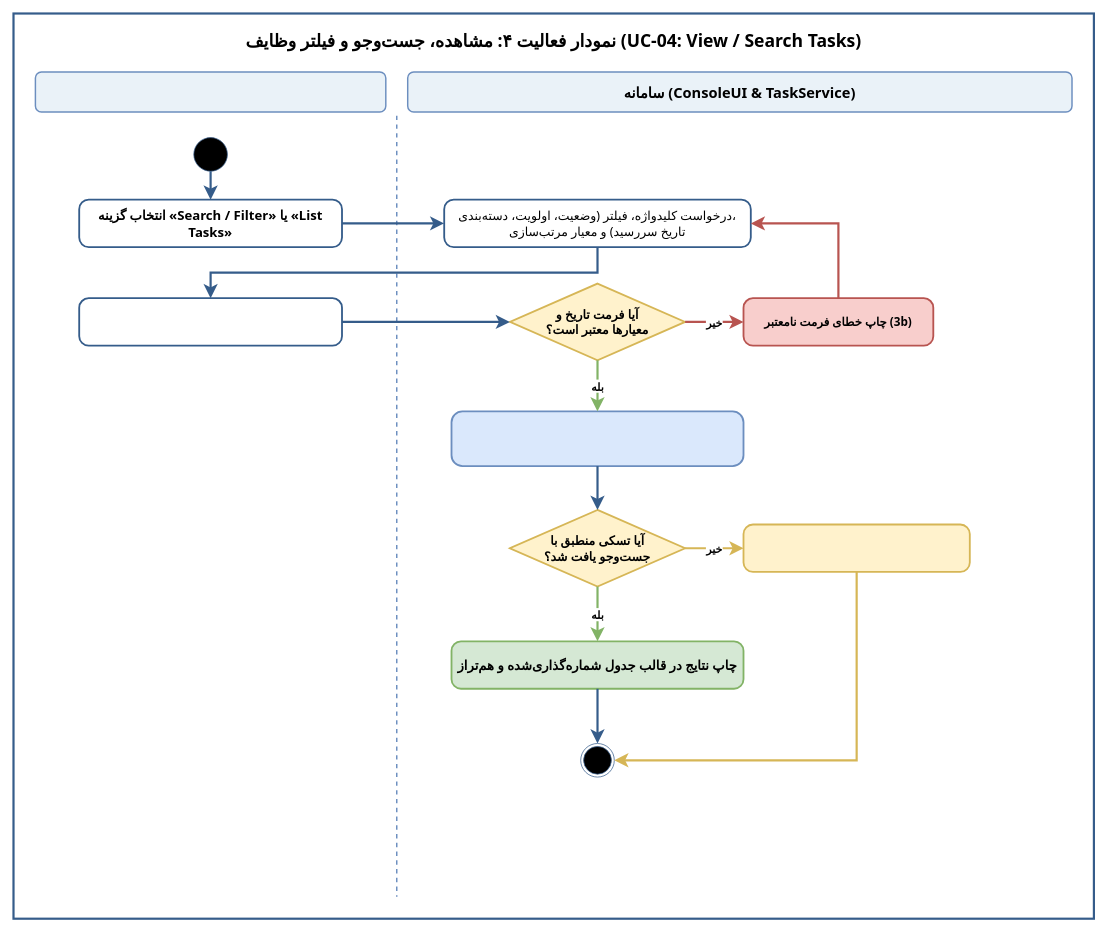
Image size: 1107x932. Some labels were removed from this diagram. The centre of each missing label's shape, as x and y in pixels:
"اعمال فیلتر و مرتب‌سازی (FR-09 تا FR-11) بررسی لیست تسک‌های کاربر در حافظه" belongs at (x=597, y=438).
"نمایش پیام «no matching tasks» (3a)" belongs at (x=856, y=548).
"وارد کردن معیارهای جست‌وجو و فیلتر" belongs at (x=210, y=321).
"کاربر (User)" belongs at (x=210, y=91).
